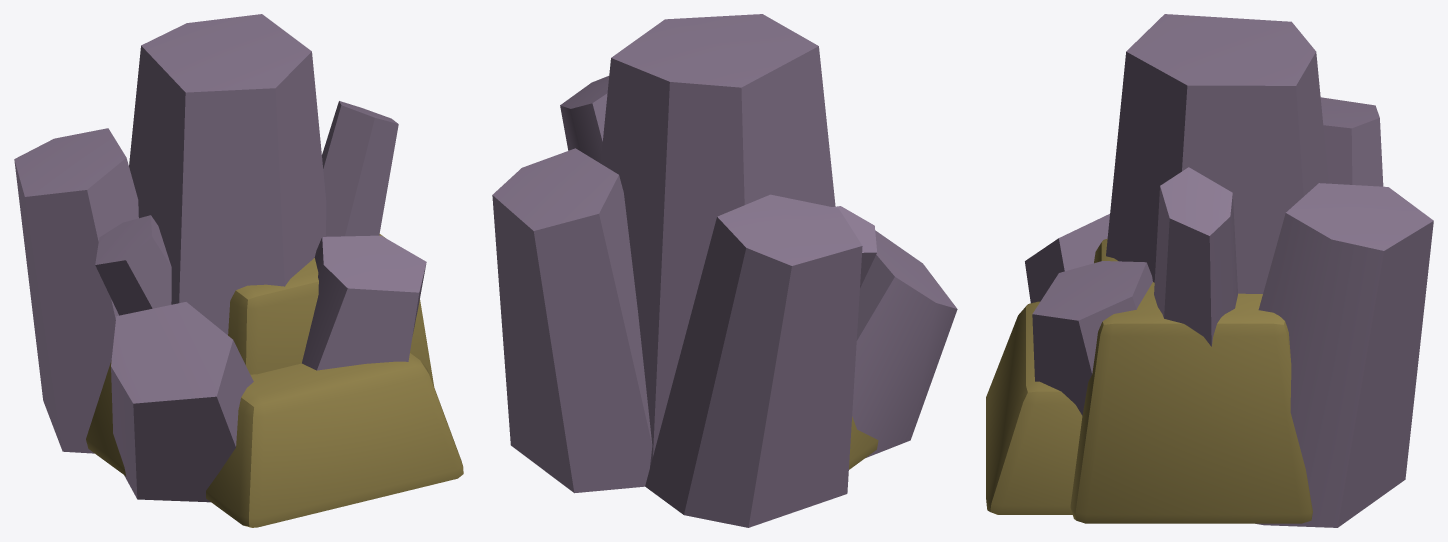
Rendered from CubeRocks.glb.
3 renders of one model, left to right at view 1: azimuth 30°, elevation 25°; view 2: azimuth 150°, elevation 25°; view 3: azimuth 270°, elevation 25°, orthographic. The views are drawn at different scales.
Visible parts, largest first — view 1: Crystal_Big, Rock2; view 2: Crystal_Big, Rock2; view 3: Crystal_Big, Rock2.
Boxes of the visible parts, bbox=[...] form: Crystal_Big: bbox=[14, 14, 426, 502]; Rock2: bbox=[86, 234, 463, 527]; Crystal_Big: bbox=[492, 14, 957, 527]; Rock2: bbox=[849, 416, 878, 469]; Crystal_Big: bbox=[1025, 14, 1433, 527]; Rock2: bbox=[986, 238, 1312, 523].
Bounding box in the file's own units: 1.5 × 1.66 × 1.66.
1 material, 1 textured.
